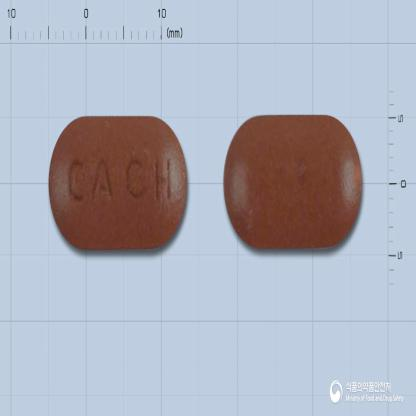pill: (47, 112, 188, 249), (222, 113, 363, 249)
